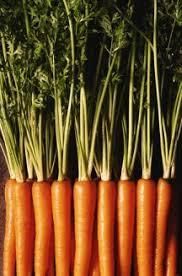Organic: (0, 1, 182, 276)
